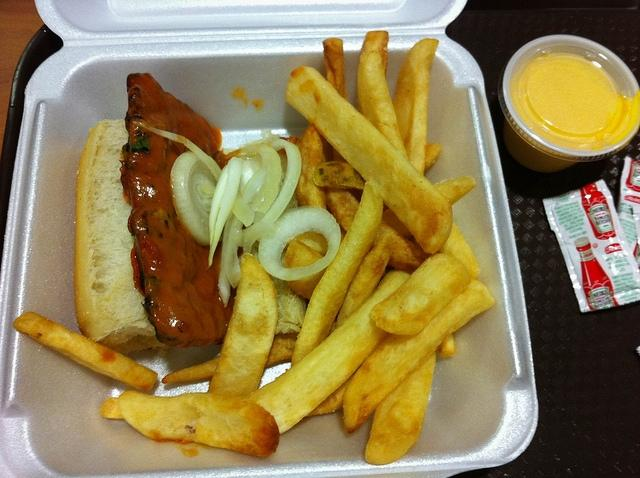onion: (133, 122, 255, 228), (239, 140, 302, 248), (258, 205, 342, 281), (170, 151, 217, 247), (208, 158, 242, 266), (235, 145, 282, 214), (217, 210, 234, 310), (209, 165, 228, 246), (224, 214, 244, 289), (239, 153, 262, 195)
